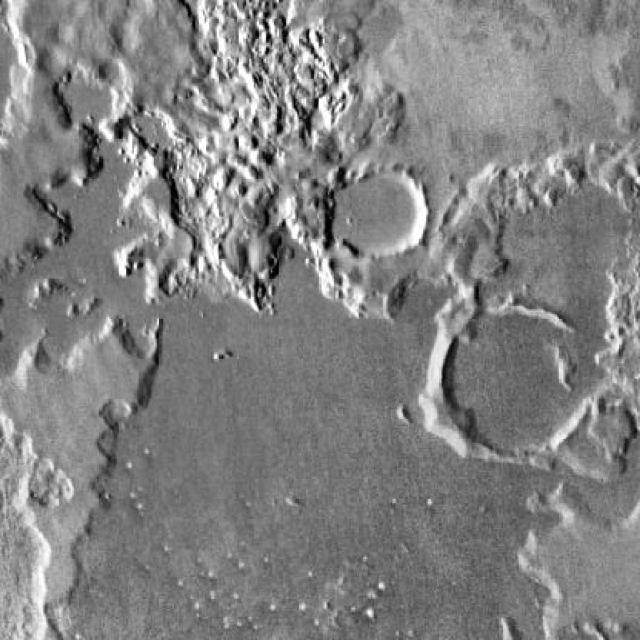crater: (442, 300, 592, 451), (334, 165, 430, 261)
